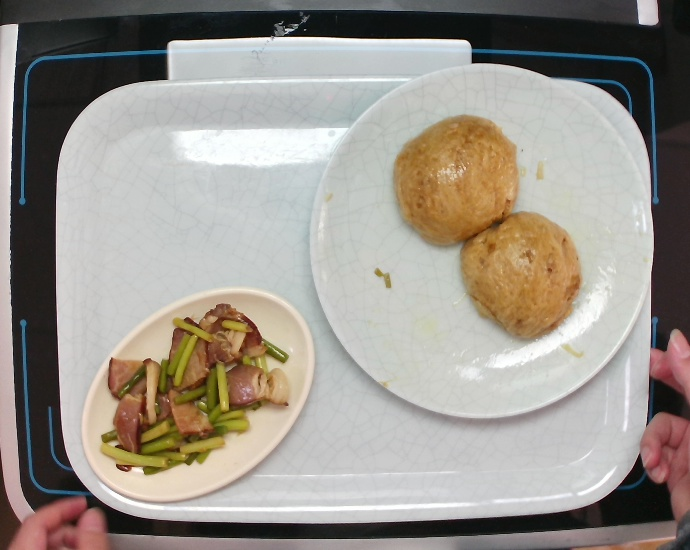JYsf-Da_Yuan_Pan: (309, 64, 658, 418)
JYsf-Tuo_Yuan_Wan: (78, 287, 314, 509)
